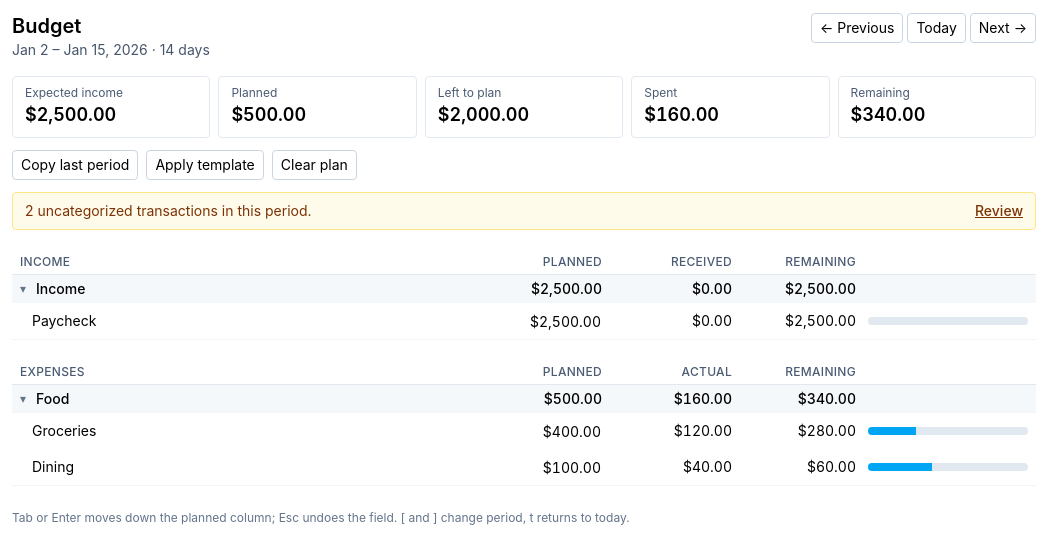
Test: BudgetPage › Enter commits, moves to the next category, and updates the totals at once
The image size is (1053, 542).
expect the text "$2,000.00" is shown: met, box [438, 104, 529, 125]
Click the field named "Planned for Groceries" at (544, 431), box [480, 417, 608, 445]
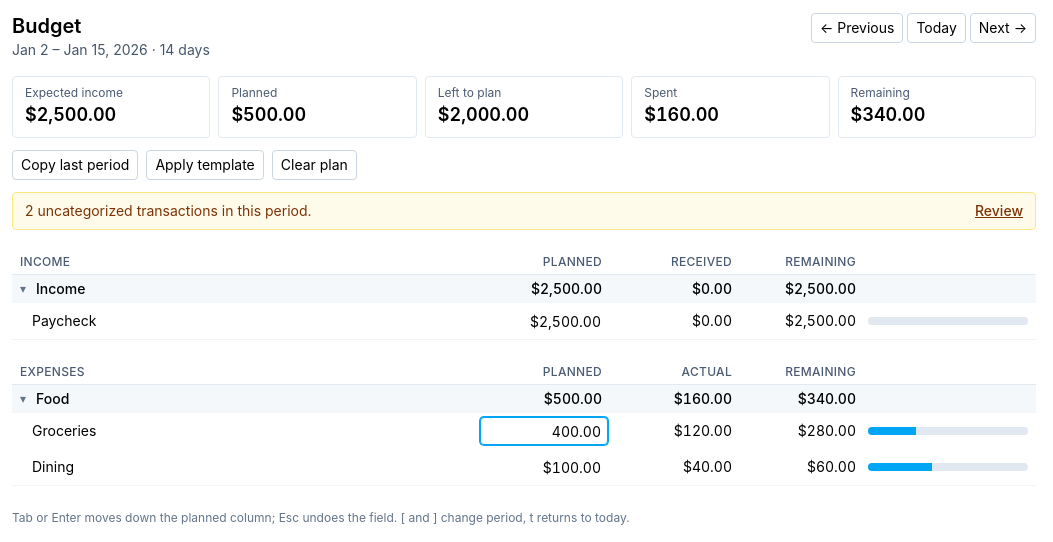
Type keys "300{Enter}"
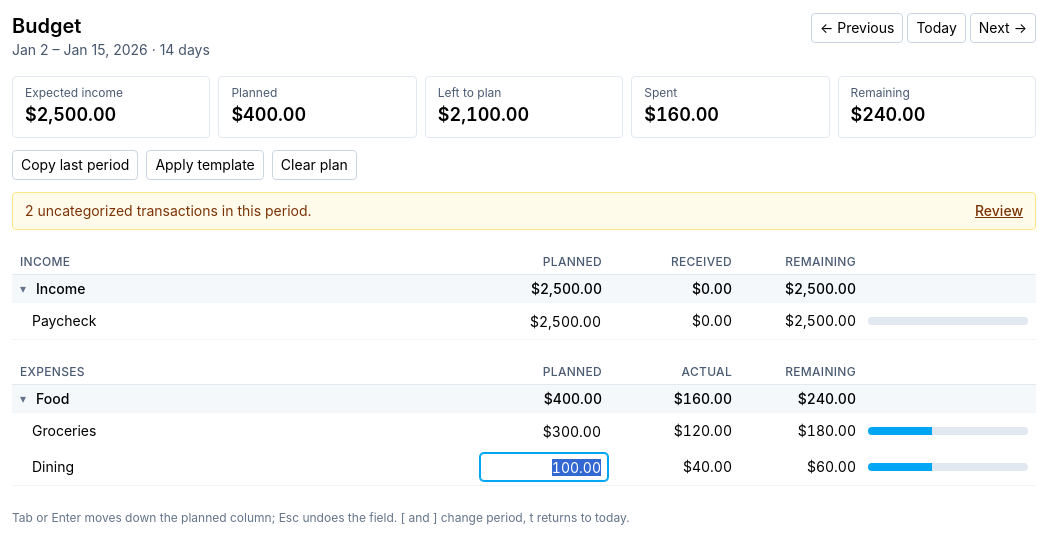
expect the text with test id "remaining-Groceries" reads "$180.00": met, box [798, 422, 856, 439]
expect the text with test id "planned-total" reads "$400.00": met, box [231, 104, 306, 125]
expect the text with test id "left-to-plan" reads "$2,100.00": met, box [438, 104, 529, 125]
